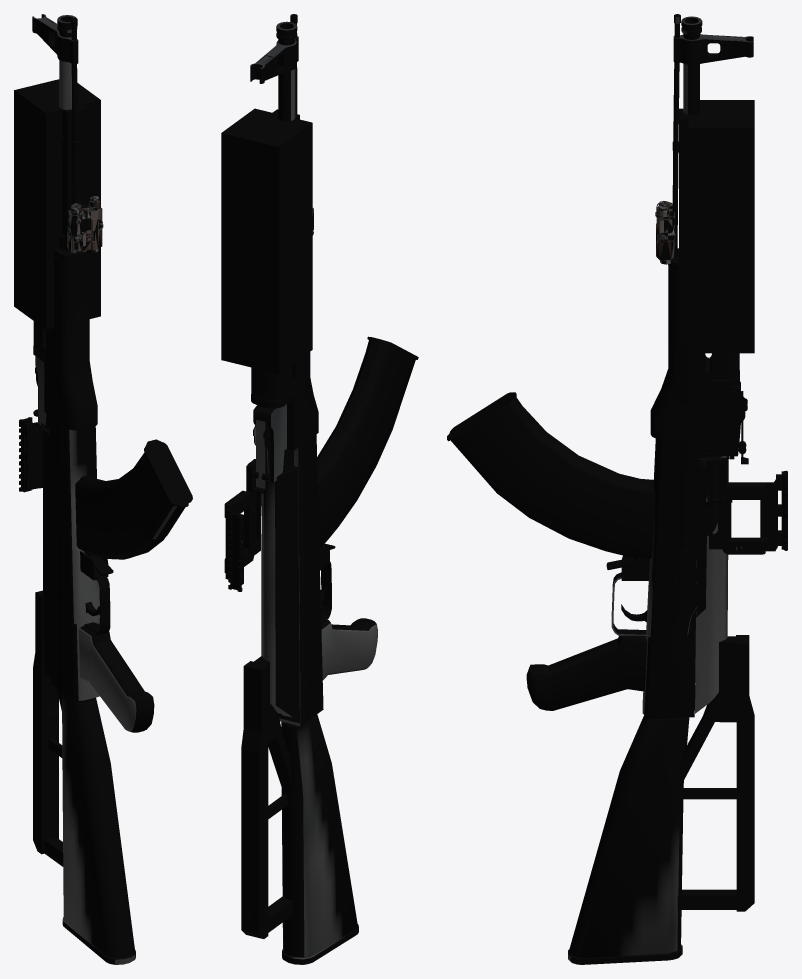
Rendered from AK47__Handguard_AK_Quad__Laser_Pistol__Mount_AK_SideRail__Stock_AK_Folding.fbx.
The picture shows the model from 3 angles, left to right: view 1: azimuth 30°, elevation 25°; view 2: azimuth 150°, elevation 25°; view 3: azimuth 270°, elevation 25°; orthographic projection. The views are drawn at different scales.
Parts seen in each view (by area): view 1: asset_AK47.001; view 2: asset_AK47.001; view 3: asset_AK47.001.
Boxes of the visible parts, x1=… form: asset_AK47.001: x1=14, y1=14, x2=192, y2=964; asset_AK47.001: x1=221, y1=14, x2=418, y2=964; asset_AK47.001: x1=447, y1=14, x2=787, y2=964.
Size of the model in its own units: 0.0336 by 0.528 by 0.173.
